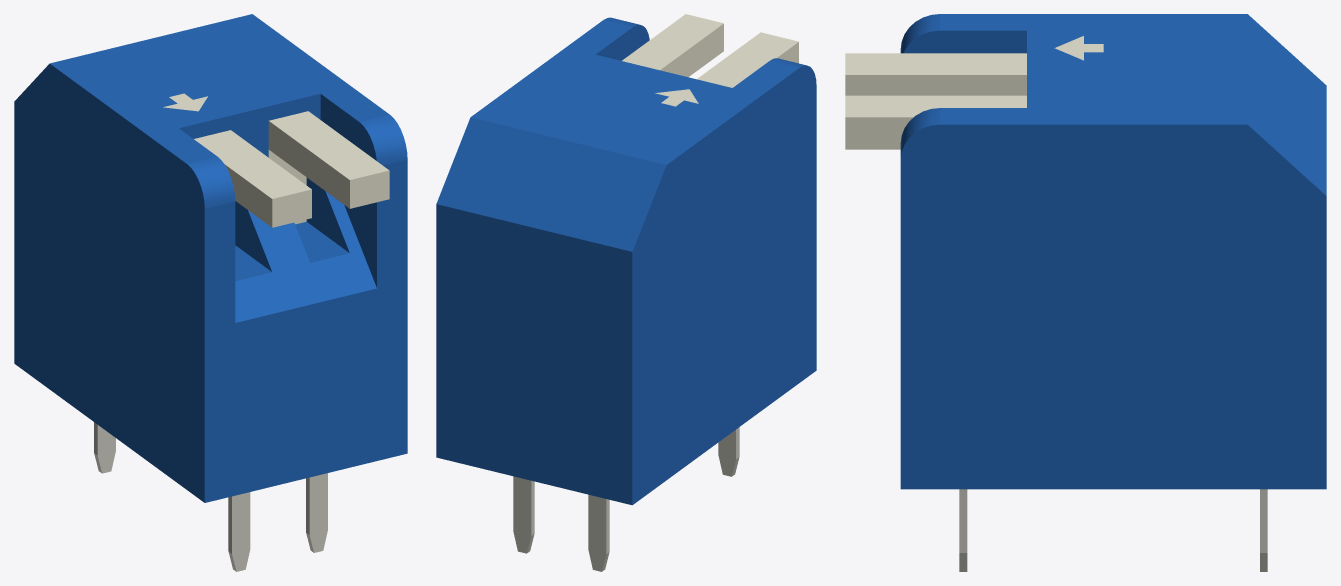
Rendered from kc-sw_dip_spstx02_piano_10.8x6.64mm_w7.62mm_p2.54mm.glb.
The picture shows the model from 3 angles, left to right: view 1: azimuth 30°, elevation 25°; view 2: azimuth 150°, elevation 25°; view 3: azimuth 270°, elevation 25°; orthographic projection. The views are drawn at different scales.
Visible parts, largest first — view 1: 0_0.16666666666666666_0.5_0, 0.75_0.75_0.6666666666666666_0, 0.6666666666666666_0.6666666666666666_0.5833333333333334_0.8; view 2: 0_0.16666666666666666_0.5_0, 0.75_0.75_0.6666666666666666_0, 0.6666666666666666_0.6666666666666666_0.5833333333333334_0.8; view 3: 0_0.16666666666666666_0.5_0, 0.75_0.75_0.6666666666666666_0, 0.6666666666666666_0.6666666666666666_0.5833333333333334_0.8.
Boxes of the visible parts, x1,y1,x2,y2 form: 0_0.16666666666666666_0.5_0: (14,14,407,502); 0.75_0.75_0.6666666666666666_0: (163,93,389,227); 0.6666666666666666_0.6666666666666666_0.5833333333333334_0.8: (94,422,327,571); 0_0.16666666666666666_0.5_0: (436,17,816,505); 0.75_0.75_0.6666666666666666_0: (622,14,798,106); 0.6666666666666666_0.6666666666666666_0.5833333333333334_0.8: (513,427,739,571); 0_0.16666666666666666_0.5_0: (900,14,1326,489); 0.75_0.75_0.6666666666666666_0: (845,36,1103,149); 0.6666666666666666_0.6666666666666666_0.5833333333333334_0.8: (959,489,1267,571).
Size of the model in its own units: 0.664 by 1.34 by 1.22.
